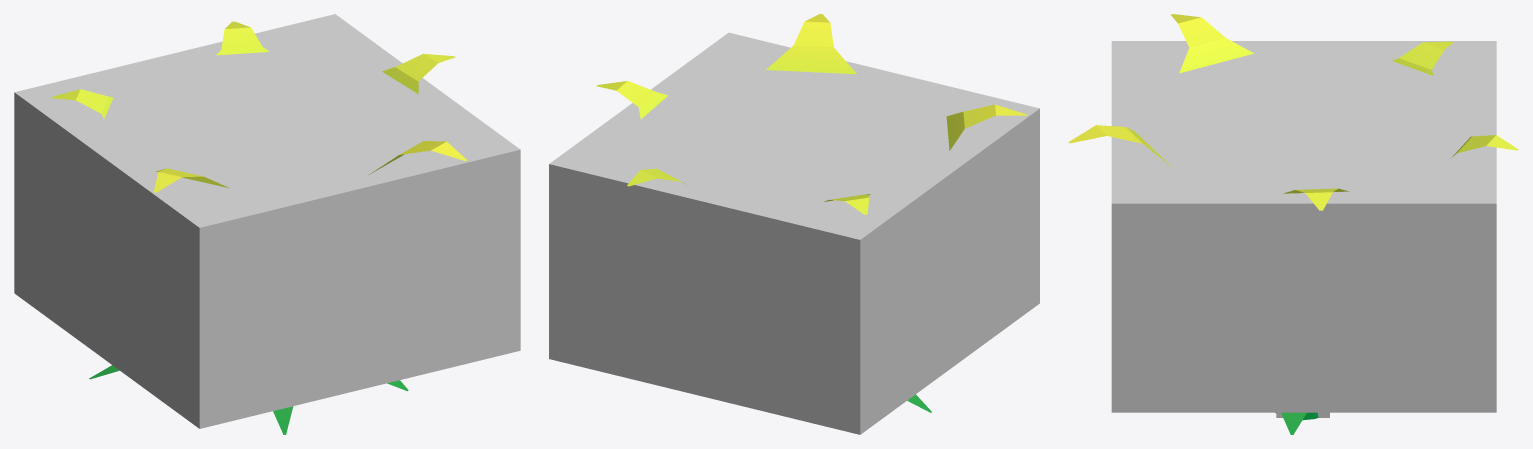
The model's file is Plant_Collector_03.fbx.
The picture shows the model from 3 angles, left to right: view 1: azimuth 30°, elevation 25°; view 2: azimuth 150°, elevation 25°; view 3: azimuth 270°, elevation 25°; orthographic projection. The views are drawn at different scales.
Visible parts, largest first — view 1: INTERACT_03, Plant_Collector_03; view 2: INTERACT_03, Plant_Collector_03; view 3: INTERACT_03, Plant_Collector_03.
Boxes of the visible parts, left/top/right/bottom form: INTERACT_03: left=14, top=14, right=520, bottom=428; Plant_Collector_03: left=51, top=21, right=466, bottom=434; INTERACT_03: left=549, top=32, right=1039, bottom=434; Plant_Collector_03: left=596, top=14, right=1026, bottom=412; INTERACT_03: left=1111, top=41, right=1496, bottom=412; Plant_Collector_03: left=1068, top=14, right=1518, bottom=434.
Size of the model in its own units: 3.34 by 2.58 by 3.37.
